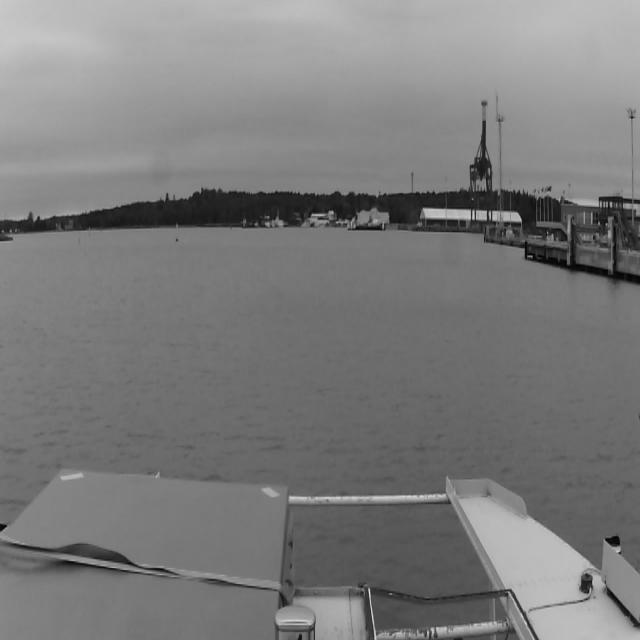buoy: (174, 222, 182, 244), (83, 240, 89, 260), (77, 231, 81, 245)
